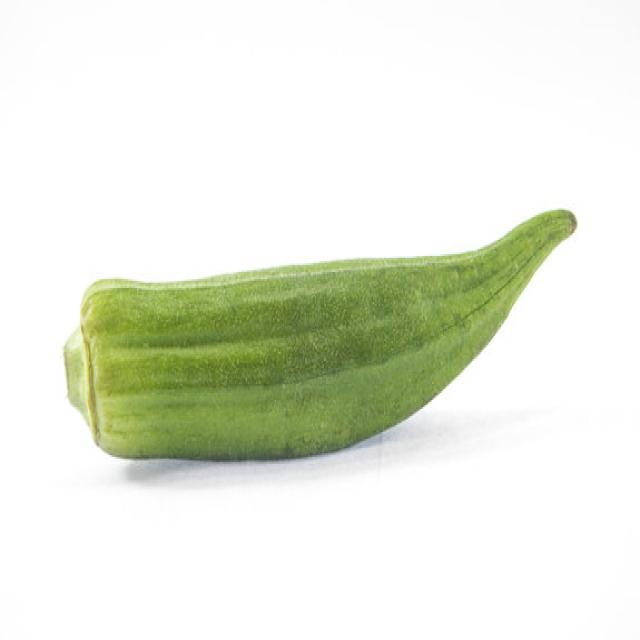Okra: (62, 206, 578, 462)
